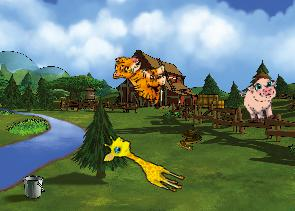giraffe: (97, 131, 191, 195)
pig: (238, 76, 283, 124)
tiger: (110, 53, 169, 105)
